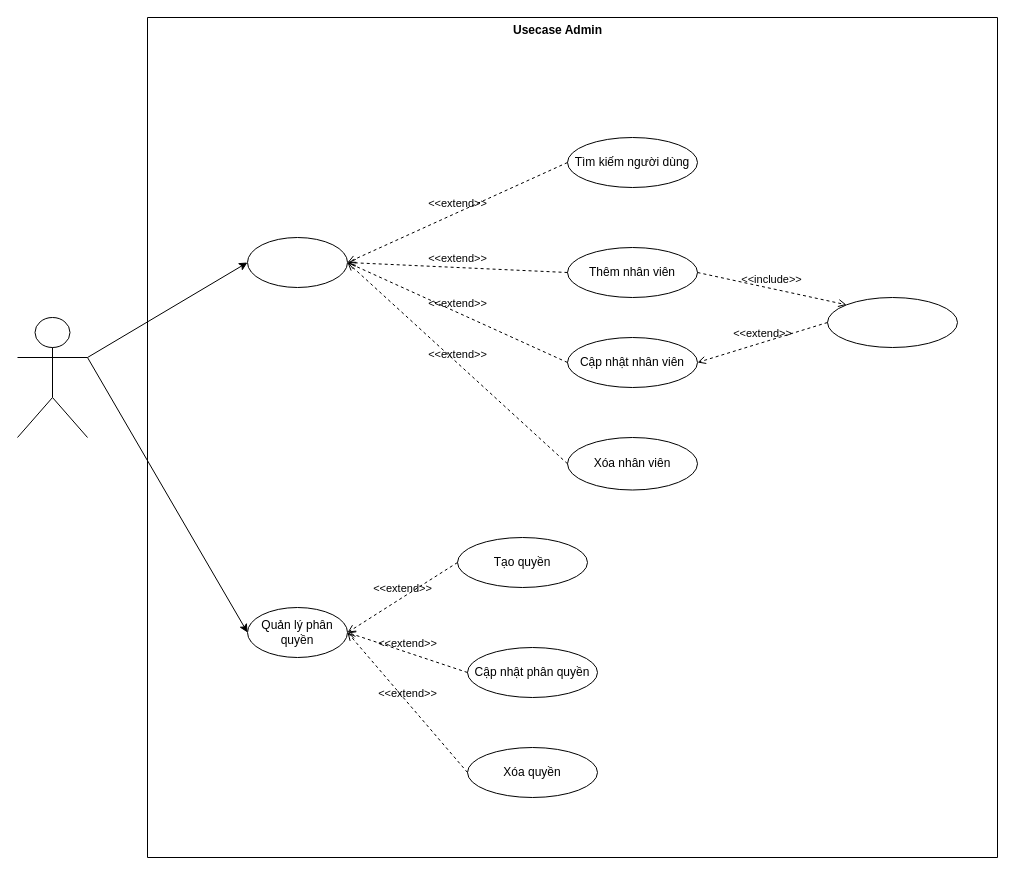
Image size: 1015x875. Some labels were removed from this diagram. Each missing label, with the centre of its shape:
"Admin" goes at [52,377].
"Phân quyền" goes at [892,322].
"Quản lý người dùng" goes at [297,262].
